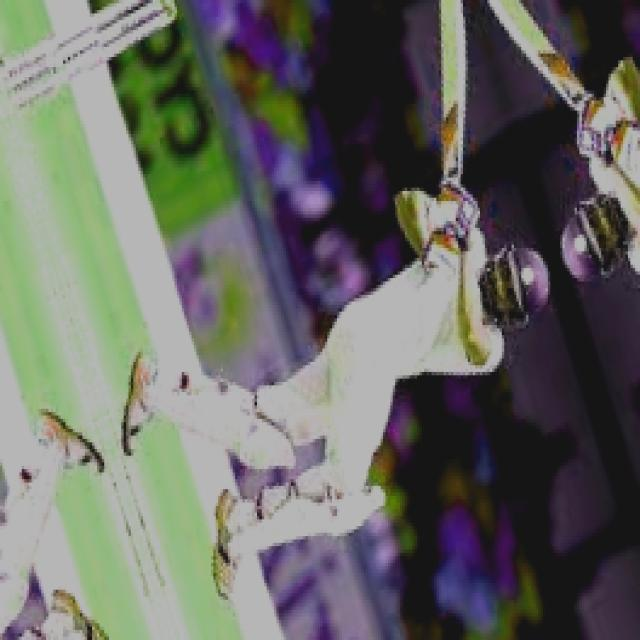toe: (434, 0, 468, 16)
